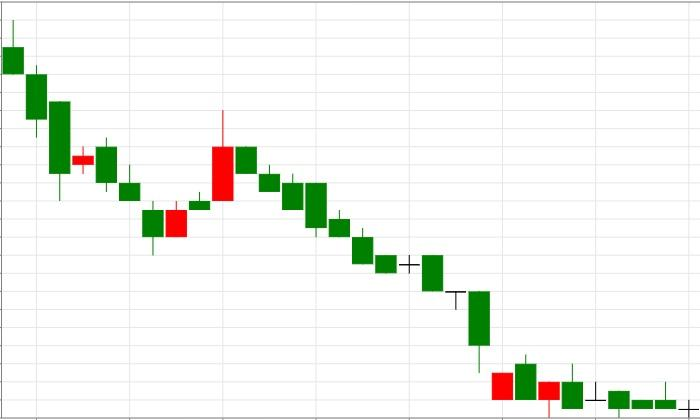three_black_crows_fall: (142, 111, 304, 256)
